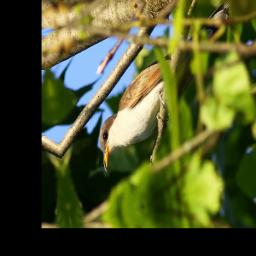Cuckoo: (80, 0, 252, 178)
